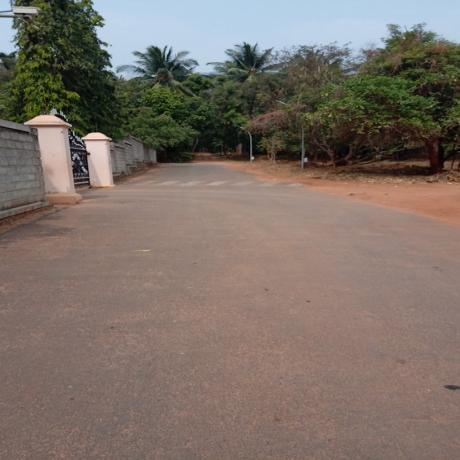Speed Bump: (118, 177, 310, 188)
